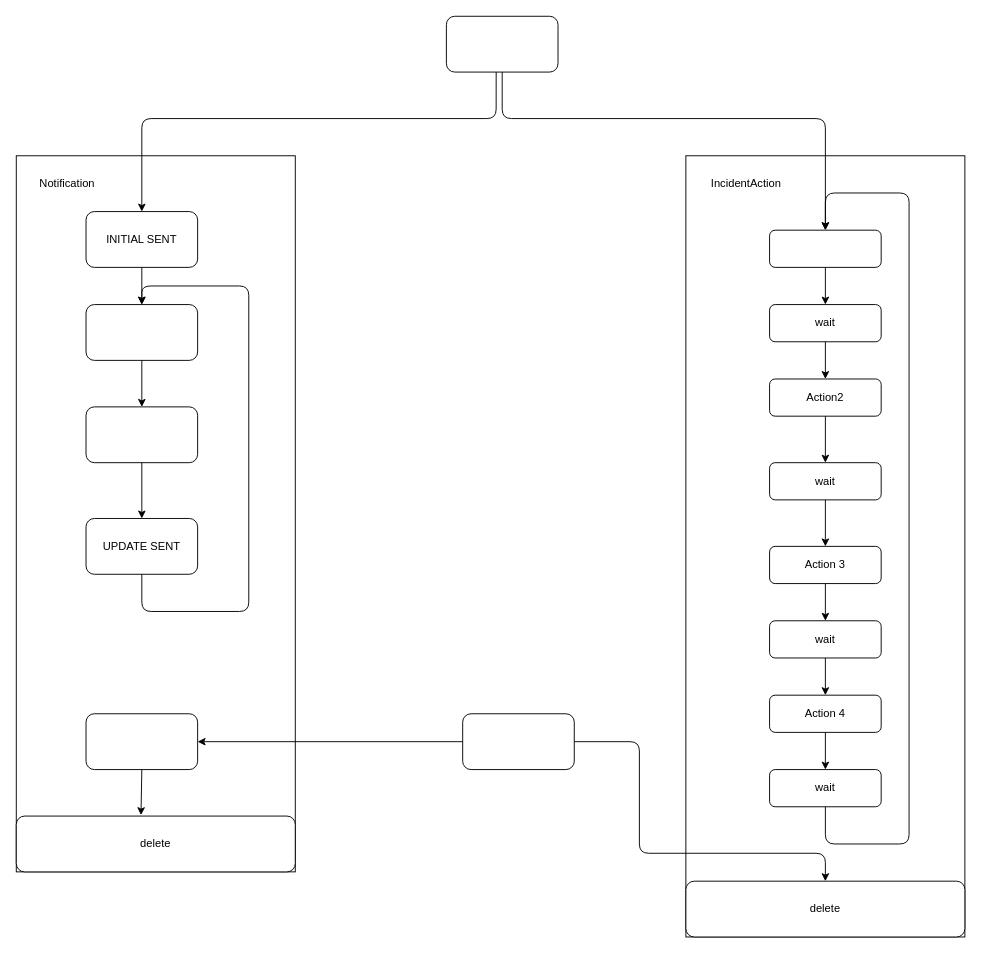
Some shapes in this 981 by 953 pixel diagram are drawn without their labels. The centre of each missing label's shape, as x and y in pixels:
Action1: (825,248)
FINAL: (141,741)
INCIDENT CLOSED: (518,741)
INCIDENT CREATED: (501,43)
START TIMER: (141,332)
TIMER EXPIRED: (141,434)
